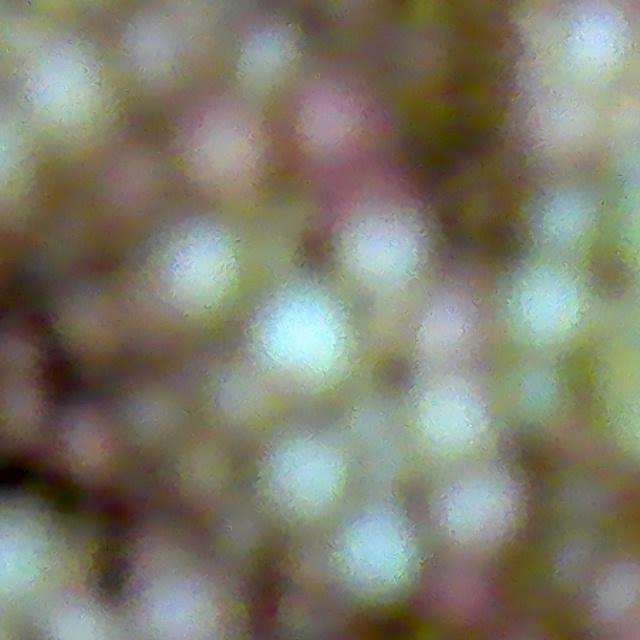SeaGrape: (245, 287, 354, 397), (284, 75, 379, 189), (491, 263, 593, 363), (25, 50, 116, 148), (161, 235, 254, 328), (347, 212, 435, 307), (412, 379, 498, 470), (259, 432, 350, 516), (52, 285, 141, 368), (433, 468, 514, 555), (182, 112, 261, 196), (231, 16, 308, 100), (526, 188, 607, 265), (424, 559, 501, 640), (344, 523, 412, 607), (119, 379, 192, 456), (55, 405, 124, 479), (403, 298, 480, 363), (508, 365, 570, 430)
